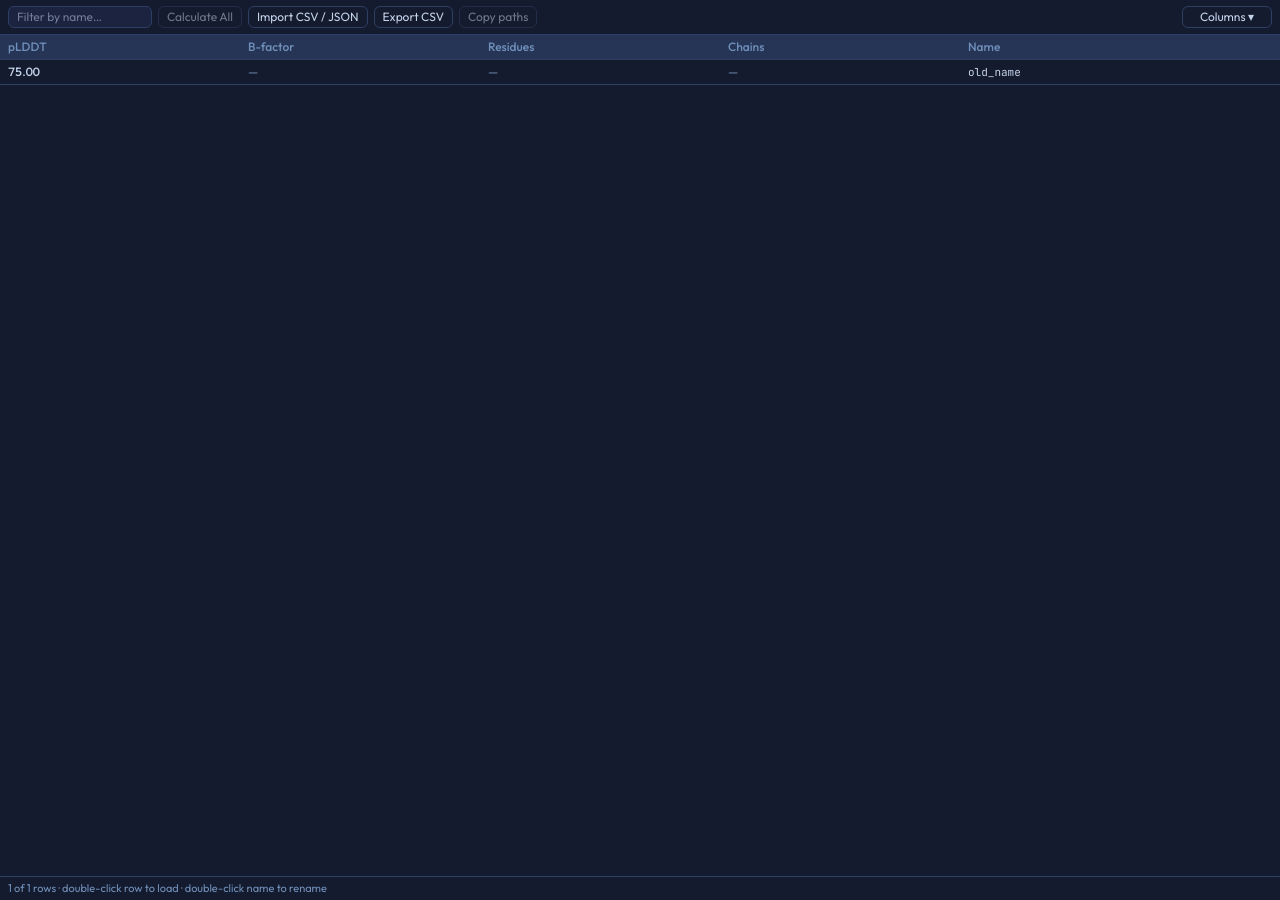
Test: MetricsTable › name cell rename › pressing Escape cancels the rename
Double-click the text titled "Double-click to rename" at (994, 72), box [968,65,1021,79]
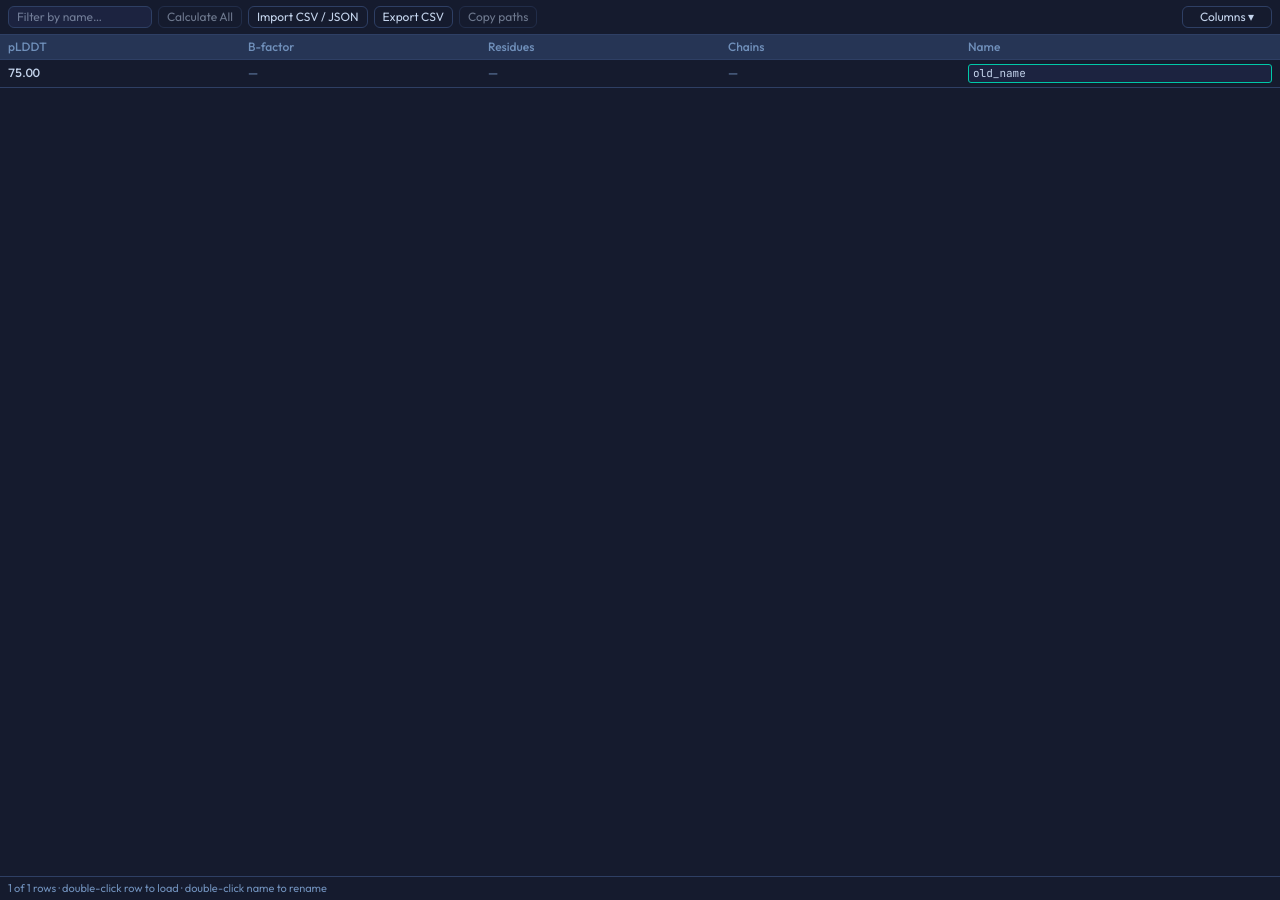
Replace the text in the field showing "old_name" with "new_name" at (1120, 73), box [968,64,1272,83]
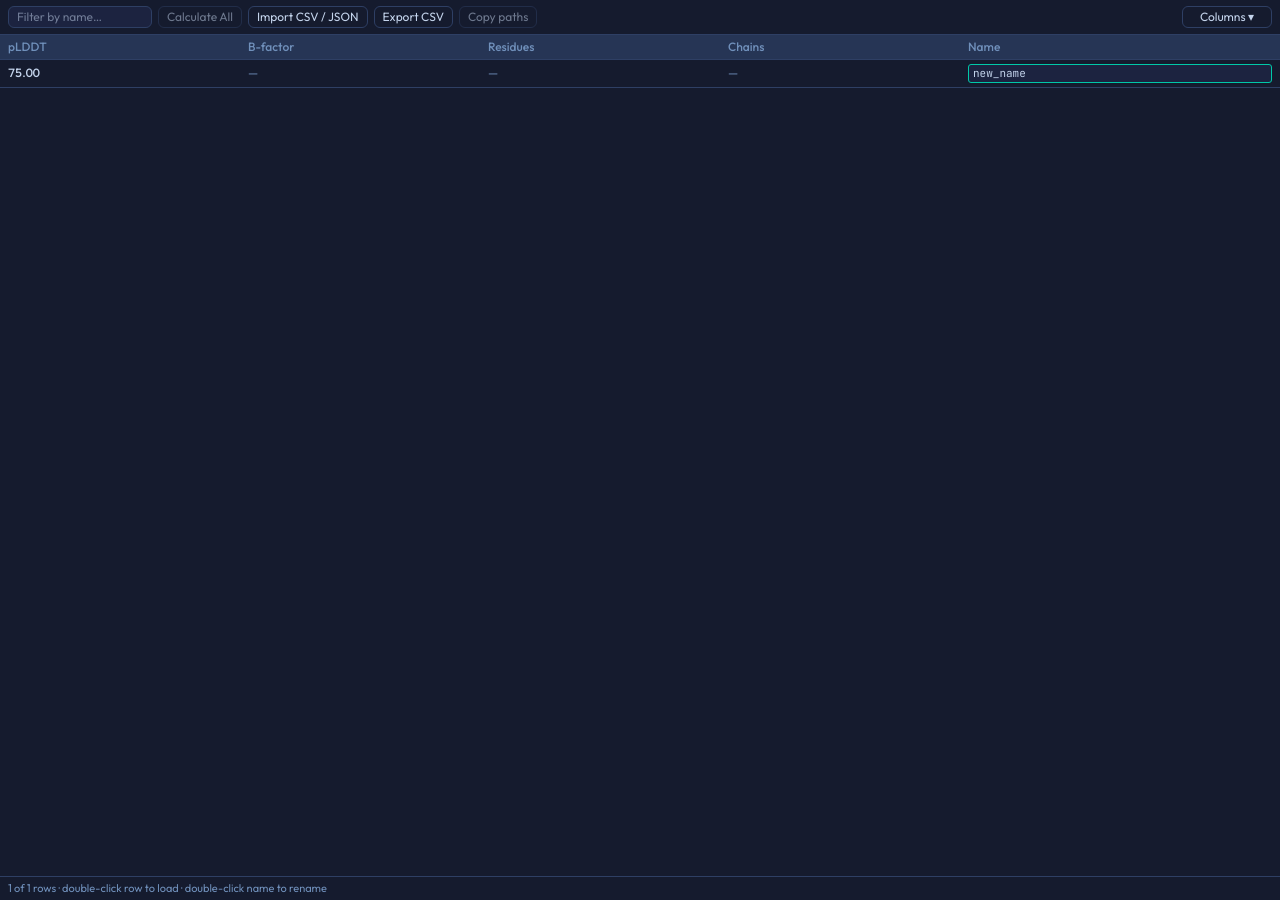
Press Escape
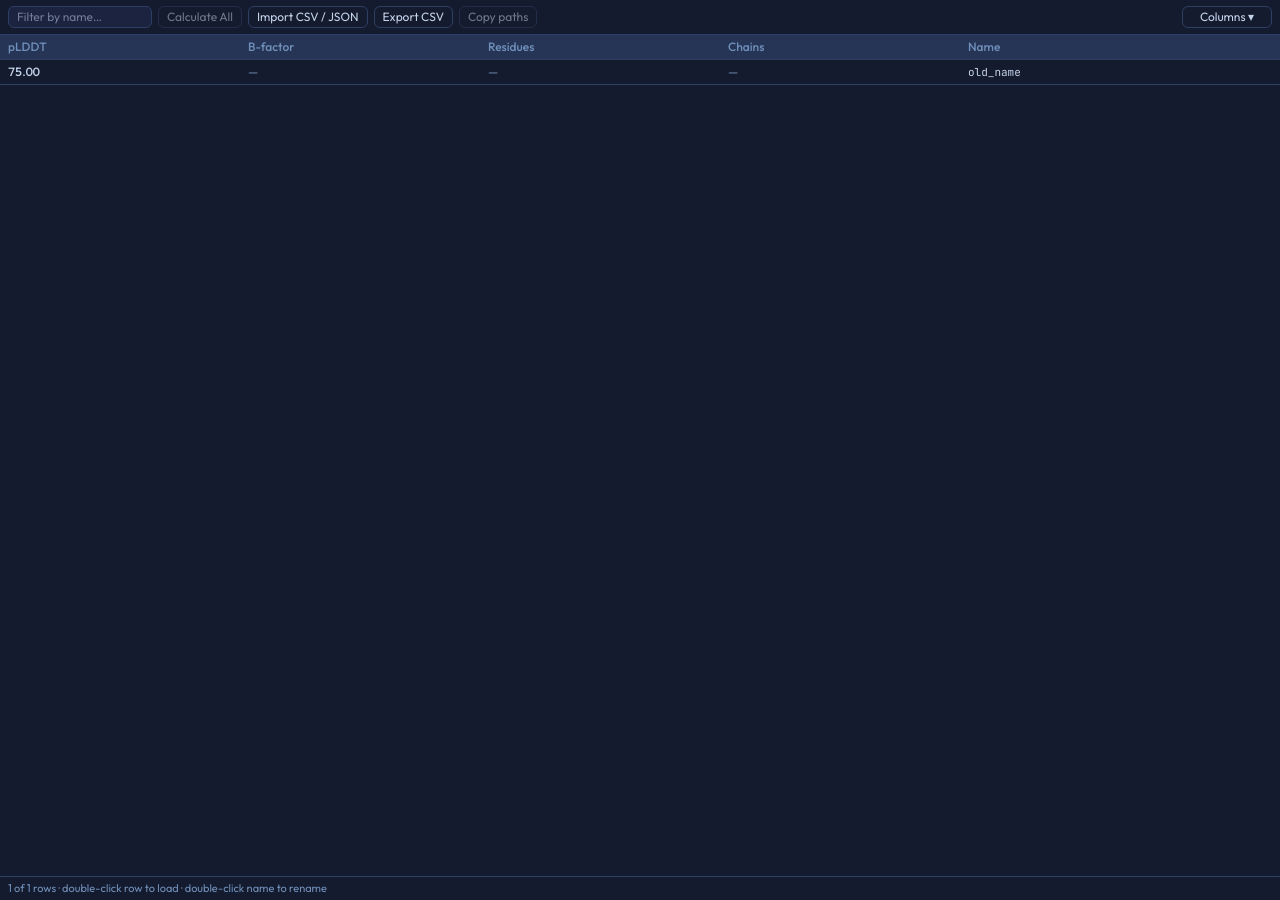
Expected: the text "old_name" is shown, [968,65,1021,79]
